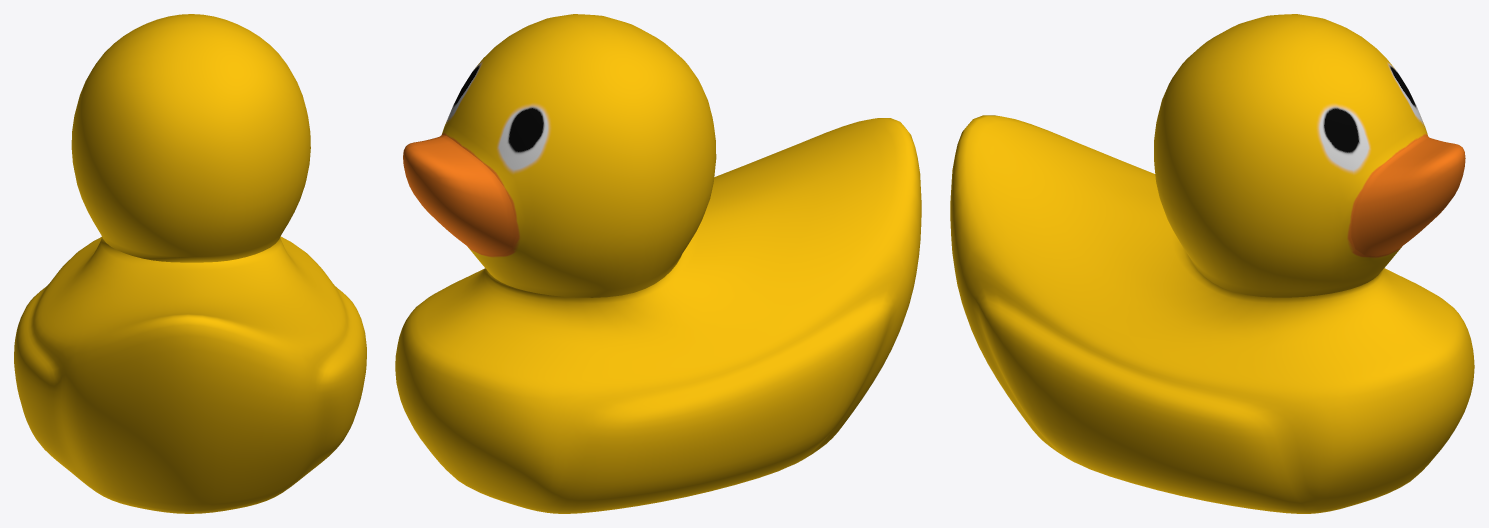
The model's file is ördek.fbx.
3 renders of one model, left to right at view 1: azimuth 30°, elevation 25°; view 2: azimuth 150°, elevation 25°; view 3: azimuth 270°, elevation 25°, orthographic. The views are drawn at different scales.
Visible parts, largest first — view 1: polySurface13; view 2: polySurface13; view 3: polySurface13.
Part boxes in pixels (left/top/right/bottom): polySurface13: left=14, top=14, right=366, bottom=513; polySurface13: left=395, top=14, right=921, bottom=513; polySurface13: left=950, top=14, right=1474, bottom=513.
Size of the model in its own units: 1.6 by 1.7 by 1.87.
Materials: 1 (1 with a texture image).
